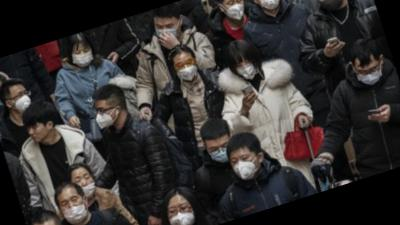mask_weared_incorrect: (69, 168, 100, 203)
with_mask: (228, 149, 265, 185), (56, 191, 93, 225), (352, 59, 388, 92), (171, 54, 203, 85), (92, 99, 122, 131), (153, 15, 185, 45), (165, 198, 200, 225), (232, 54, 260, 85), (206, 139, 235, 167), (8, 87, 36, 115), (68, 45, 97, 70), (33, 224, 72, 225)
without_mask: (25, 118, 52, 145)
